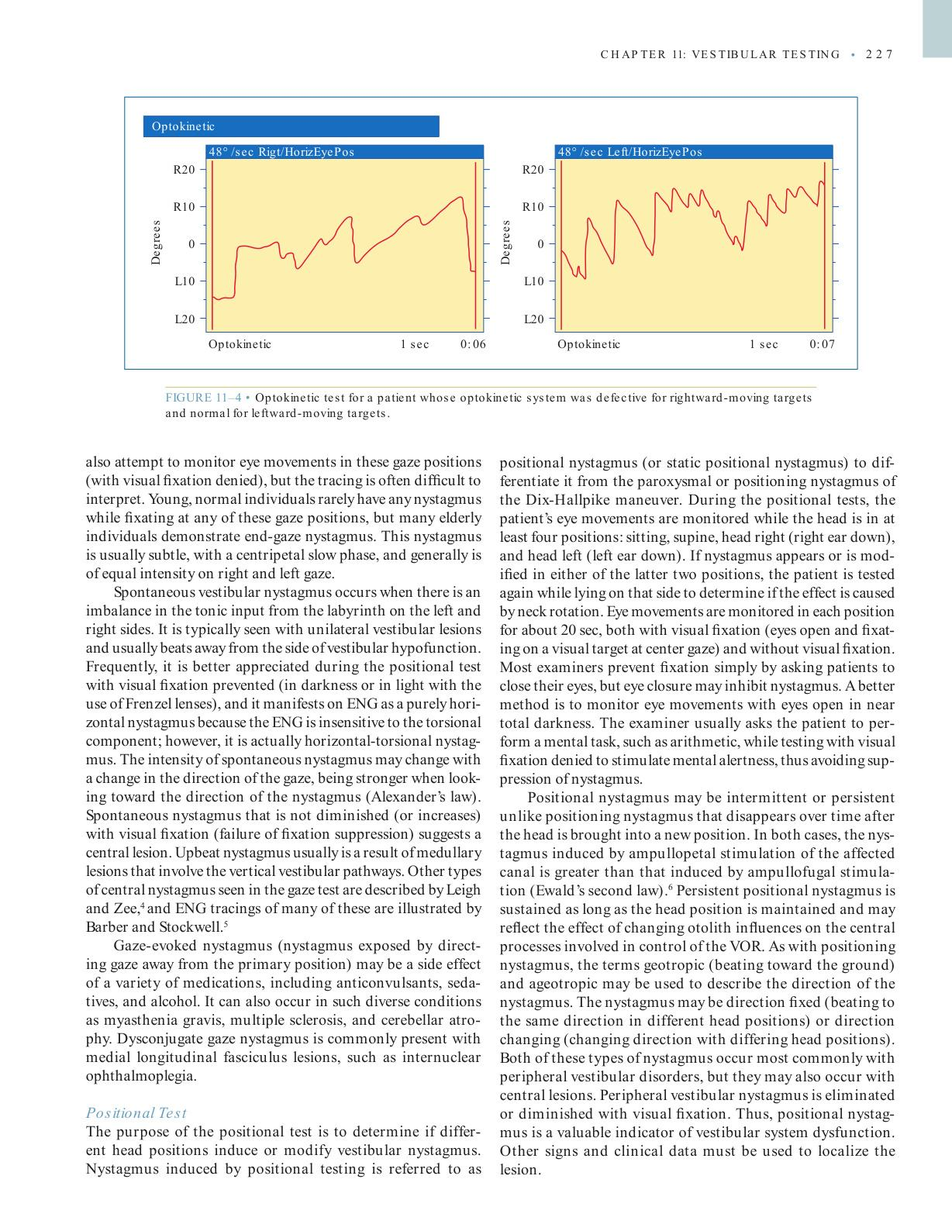caption: (164, 390, 814, 420)
header: (598, 46, 841, 60)
image: (137, 108, 846, 358)
section-heading: (84, 1106, 188, 1119)
text: (498, 454, 898, 1177), (84, 454, 483, 1086), (84, 1122, 484, 1176)
